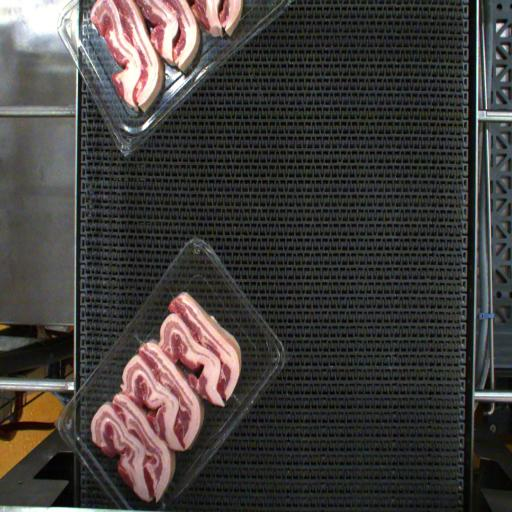packaging-error: (130, 328, 147, 348)
